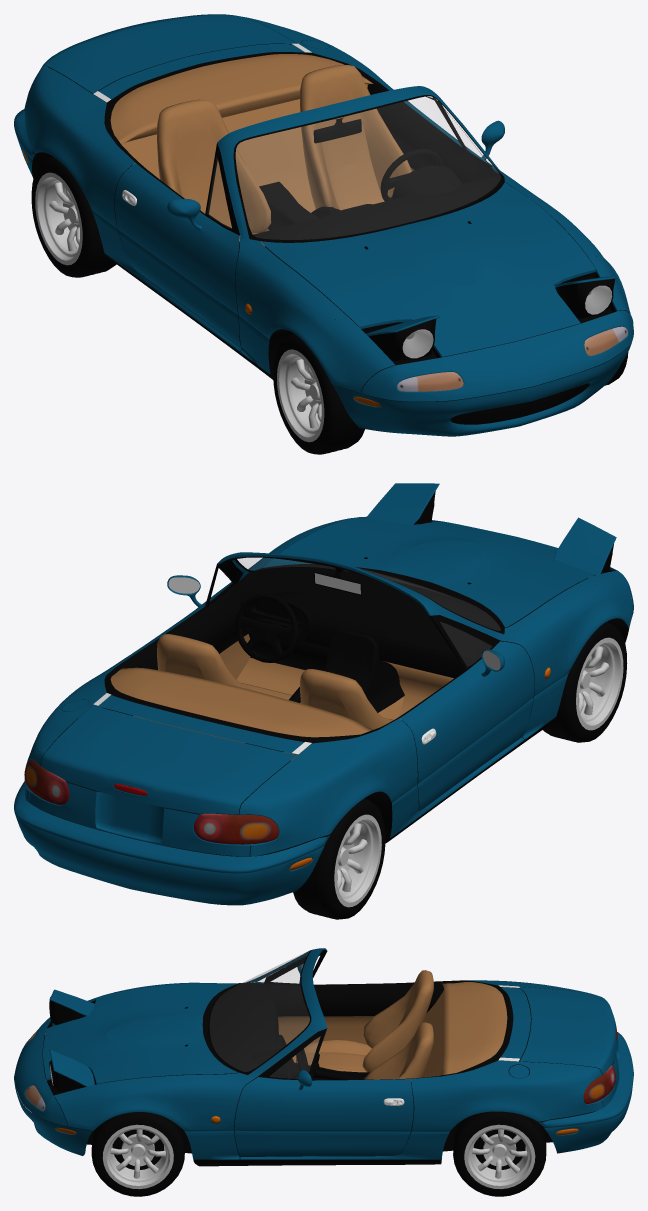
Rendered from miata-lights.glb.
3 views of the same model, one above another, from view 1: azimuth 30°, elevation 25°; view 2: azimuth 150°, elevation 25°; view 3: azimuth 270°, elevation 25° (orthographic). The views are drawn at different scales.
Parts seen in each view (by area): view 1: Body, Right Front, Right Rear, Lights, Interior Shell; view 2: Body, Right Rear, Right Front, Lights; view 3: Body, Left Rear, Left Front, Lights, Interior Shell.
Boxes of the visible parts, x1,y1,x2,y2 form: Body: (14,14,633,436); Right Front: (273,333,364,454); Right Rear: (31,156,116,277); Lights: (366,276,617,361); Interior Shell: (28,43,618,424); Body: (14,516,633,905); Right Rear: (293,798,385,919); Right Front: (543,622,627,742); Lights: (366,483,616,577); Body: (14,948,633,1166); Left Rear: (453,1111,546,1196); Left Front: (91,1112,184,1196); Lights: (49,989,94,1093); Interior Shell: (37,990,614,1163).
Size of the model in its own units: 1.24 by 0.8024 by 2.66.
Materials: 14 (1 with a texture image).
